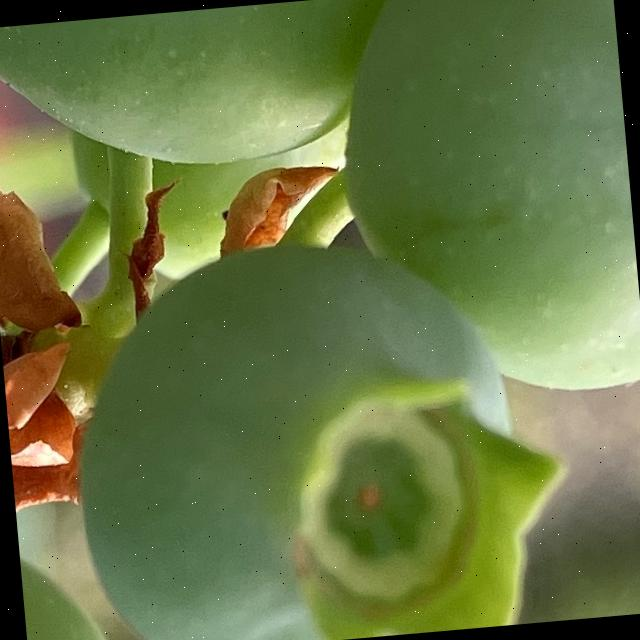Blueberries: (53, 218, 572, 640), (326, 0, 640, 415), (0, 0, 428, 194)
